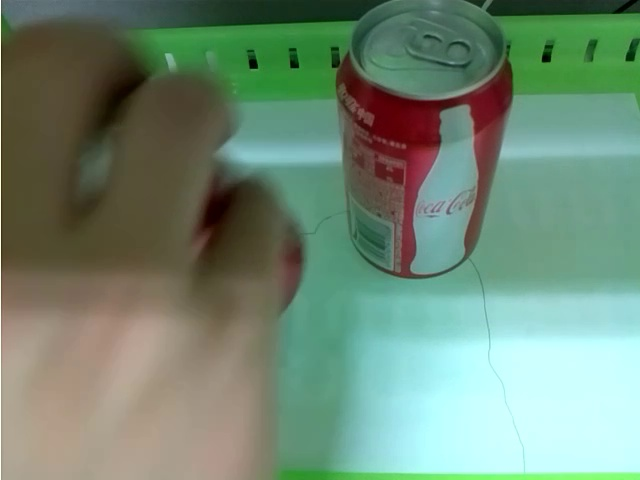cocacola: (332, 2, 516, 279)
hand: (1, 17, 293, 471)
